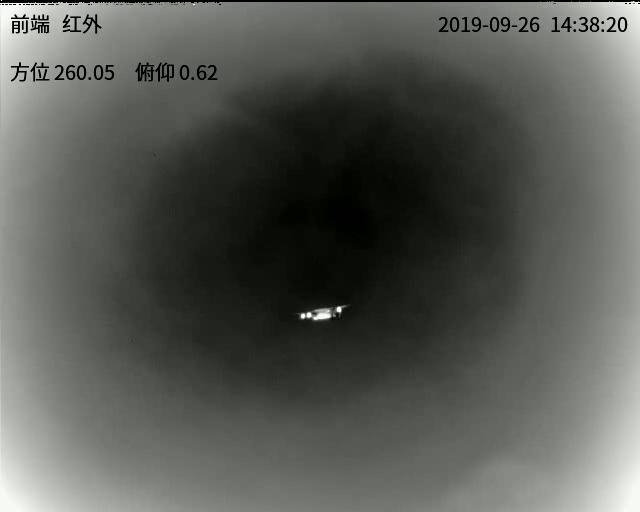DRONE: (299, 304, 346, 323)
